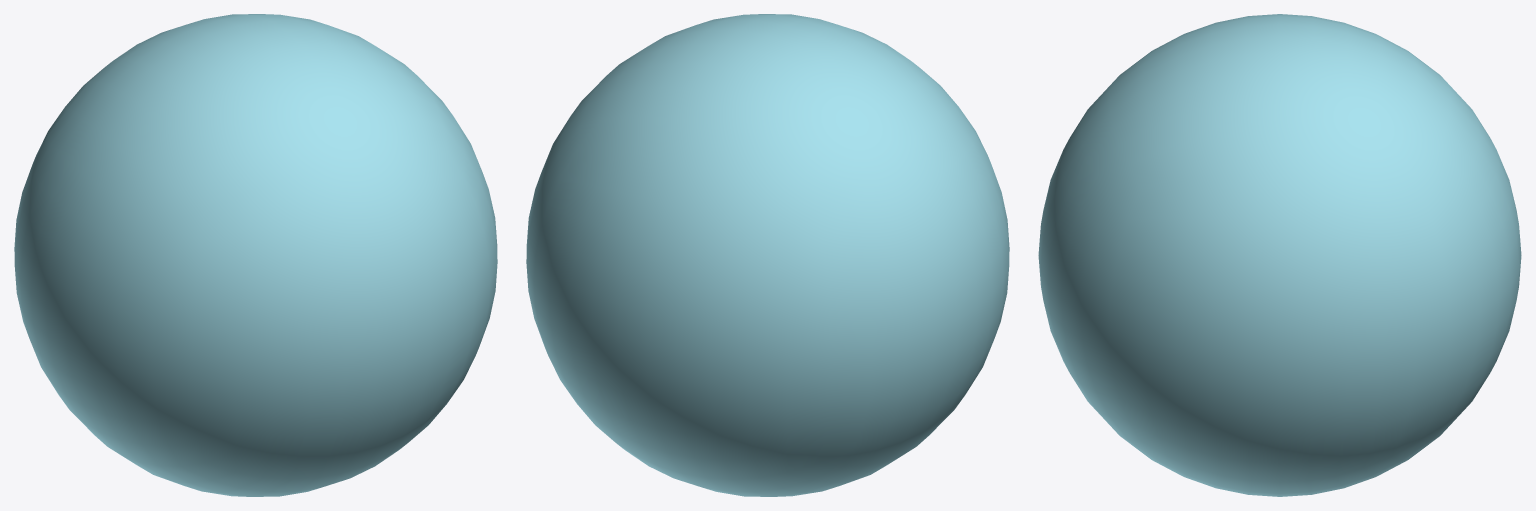
File: 36_Kr_CKP.fbx
3 views of the same model, side by side, from view 1: azimuth 30°, elevation 25°; view 2: azimuth 150°, elevation 25°; view 3: azimuth 270°, elevation 25° (orthographic).
Visible parts, largest first — view 1: KR.001; view 2: KR.001; view 3: KR.001.
Boxes of the visible parts, bbox=[...] form: KR.001: bbox=[14, 14, 497, 496]; KR.001: bbox=[526, 14, 1009, 496]; KR.001: bbox=[1038, 14, 1521, 496].
Bounding box in the file's own units: 264 × 264 × 264.
